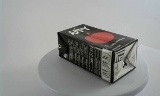appy: (52, 23, 129, 83)
